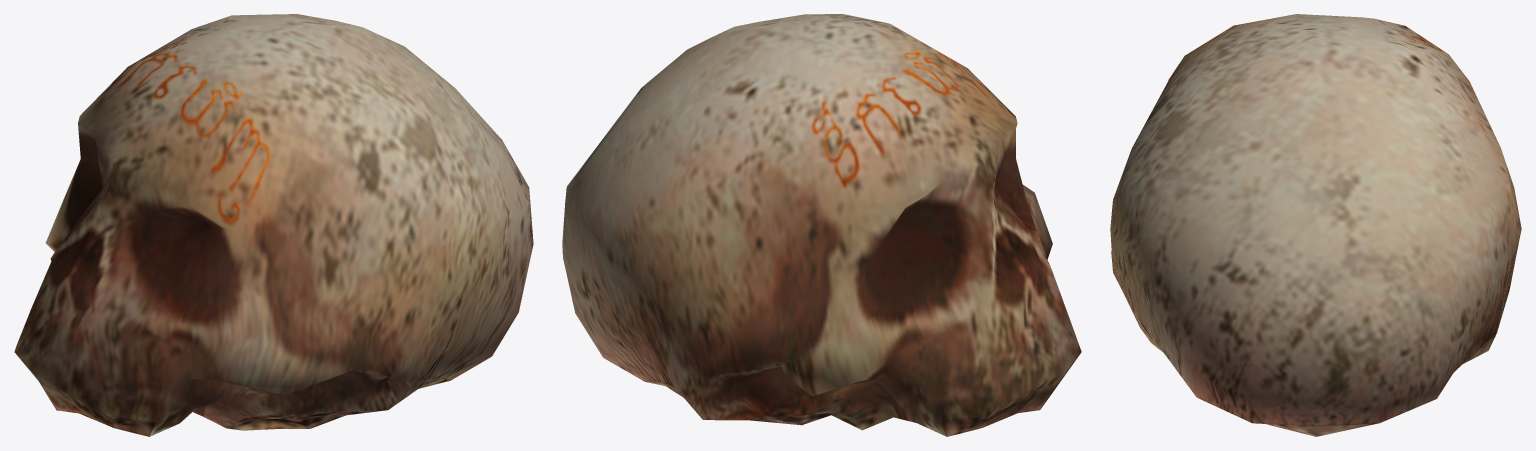
Rendered from scp1123.fbx.
3 views of the same model, side by side, from view 1: azimuth 30°, elevation 25°; view 2: azimuth 150°, elevation 25°; view 3: azimuth 270°, elevation 25° (orthographic). The views are drawn at different scales.
Parts seen in each view (by area): view 1: Scene_Root; view 2: Scene_Root; view 3: Scene_Root.
Part boxes in pixels (bbox=[...]): Scene_Root: bbox=[14, 14, 533, 436]; Scene_Root: bbox=[562, 14, 1081, 436]; Scene_Root: bbox=[1110, 14, 1521, 436].
Size of the model in its own units: 8.84 by 6.5 by 7.1.
